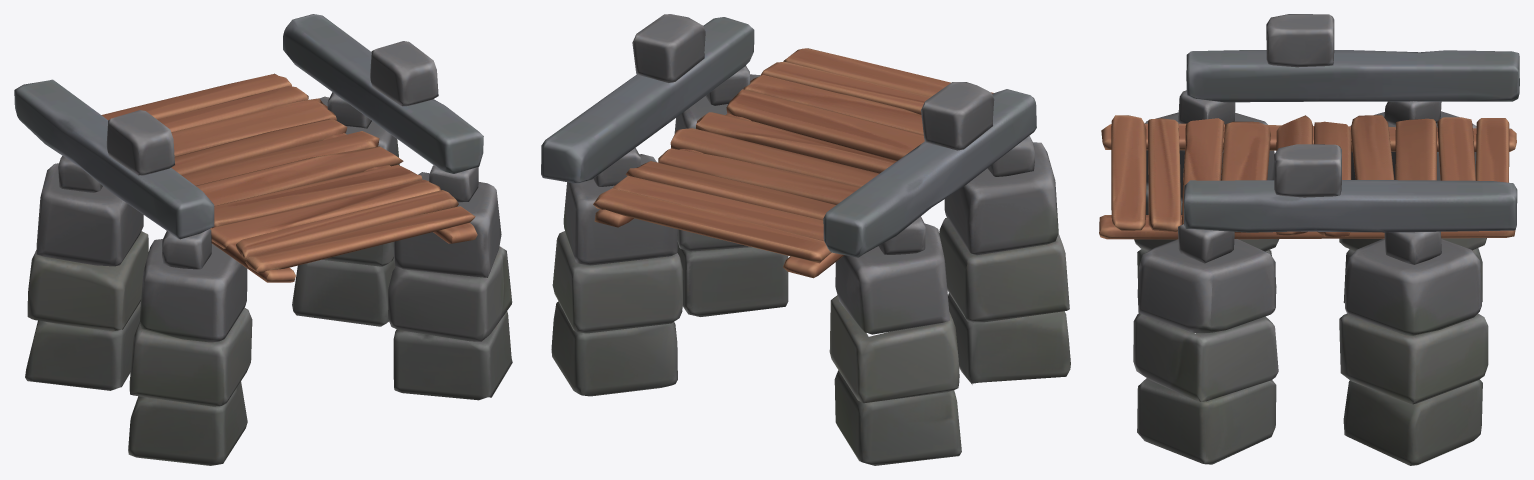
The model's file is SM_Bridge_End_03.glb.
3 renders of one model, left to right at view 1: azimuth 30°, elevation 25°; view 2: azimuth 150°, elevation 25°; view 3: azimuth 270°, elevation 25°, orthographic. The views are drawn at different scales.
Visible parts, largest first — view 1: SM_Bridge_End_03; view 2: SM_Bridge_End_03; view 3: SM_Bridge_End_03.
Boxes of the visible parts, box(x1,y1,x2,y2) form: SM_Bridge_End_03: box(14, 14, 512, 465); SM_Bridge_End_03: box(541, 14, 1070, 465); SM_Bridge_End_03: box(1099, 14, 1519, 465).
Size of the model in its own units: 4.33 by 3.08 by 4.07.
1 material, 1 textured.
